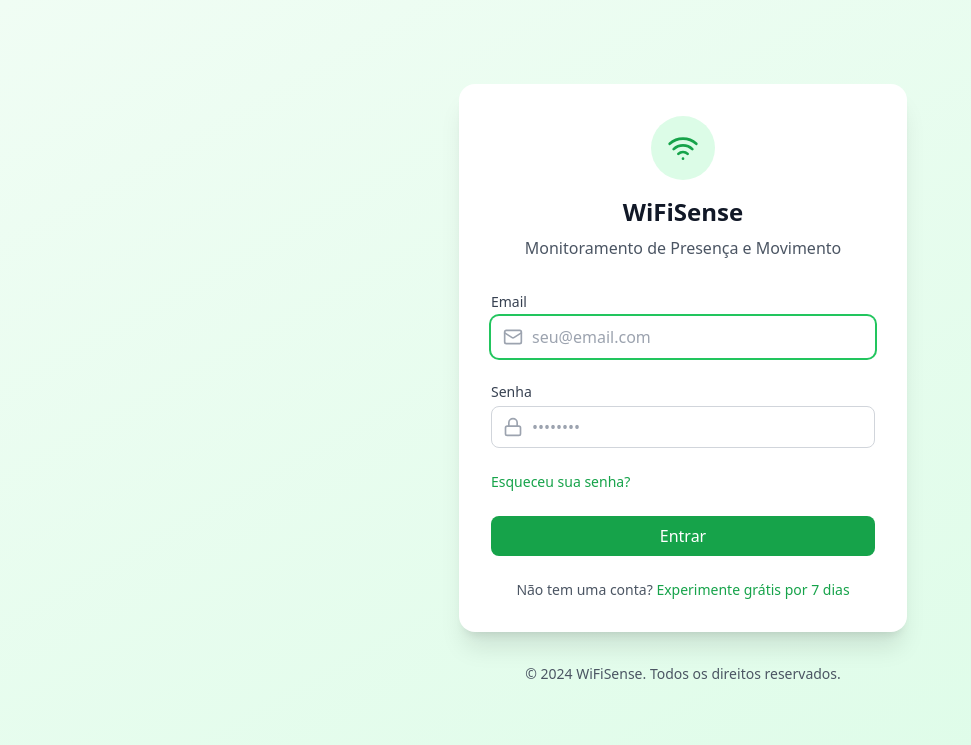
LoginPage › deve exibir erro de trial expirado
Type "expired@test.com" into the field labelled "Email".
click(683, 337); type("expired@test.com")  # box [491,316,875,358]
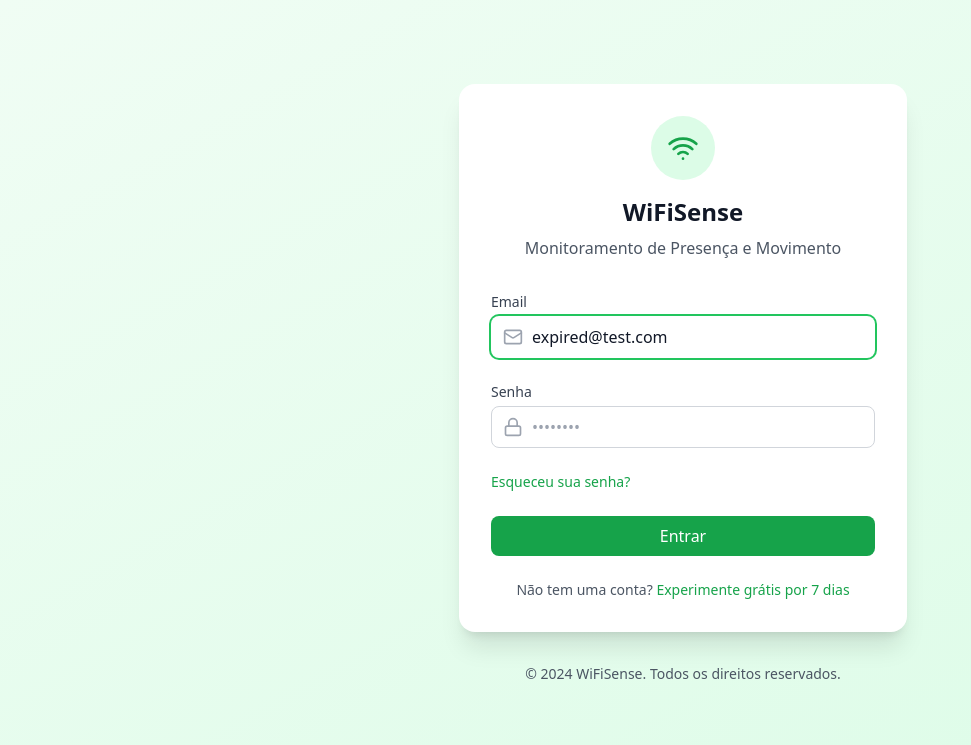
Type "password123" into the password field labelled "Senha".
click(683, 427); type("password123")  # box [491,406,875,448]
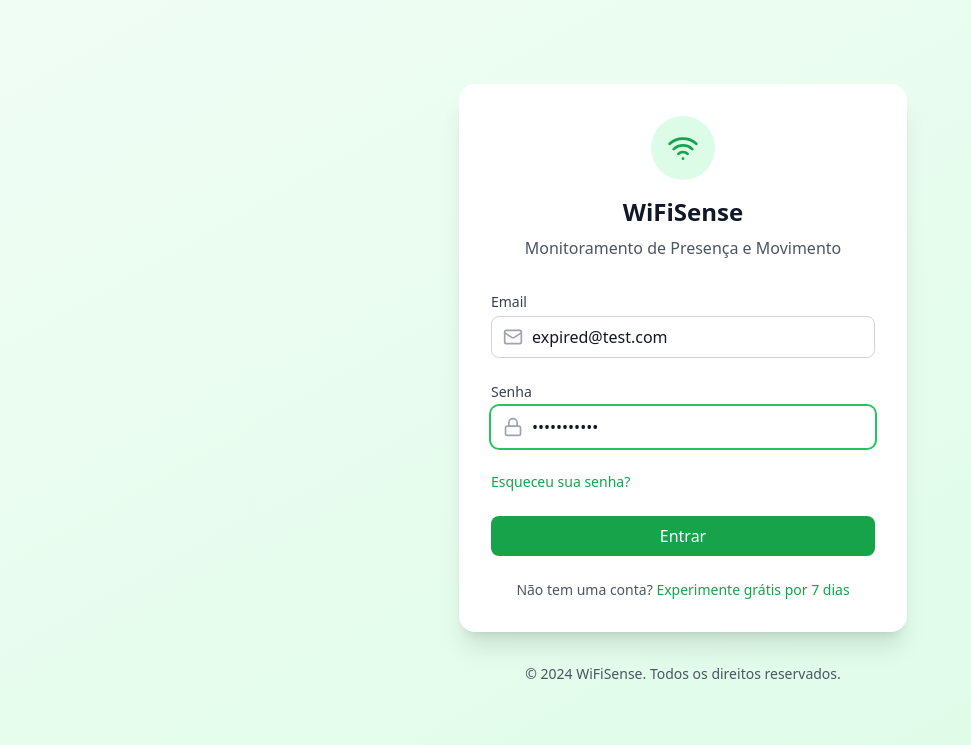
Click the button "Entrar".
click(683, 536)  # box [491,516,875,556]
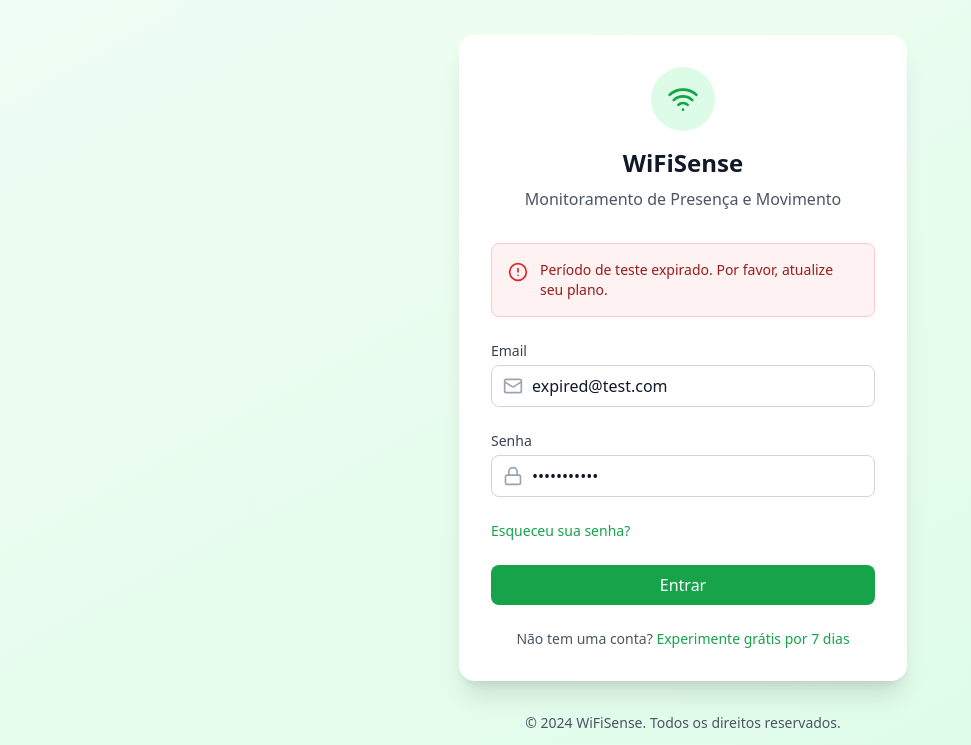
Expected: the text "Período de teste expirado. Por favor, atualize seu plano." is shown, [540,260,858,300]
